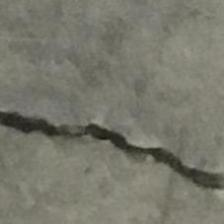Crack: (0, 108, 224, 218)
